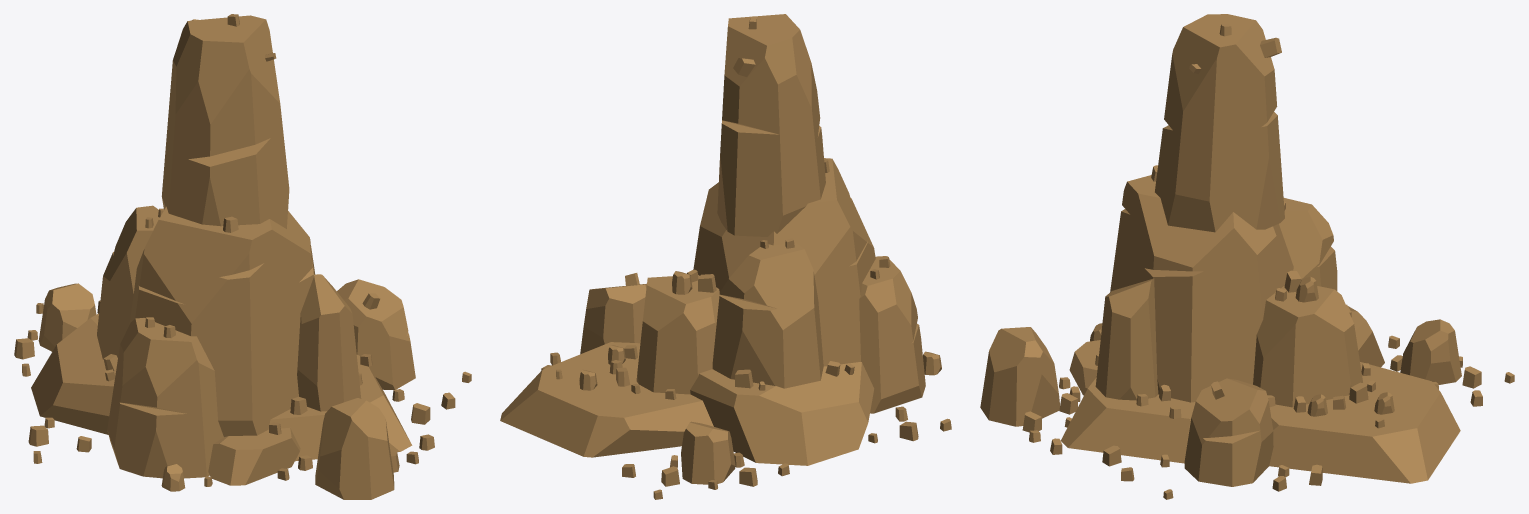
Rendered from roca05.fbx.
The picture shows the model from 3 angles, left to right: view 1: azimuth 30°, elevation 25°; view 2: azimuth 150°, elevation 25°; view 3: azimuth 270°, elevation 25°; orthographic projection. The views are drawn at different scales.
Parts seen in each view (by area): view 1: big_rock_05_Cylinder_200; view 2: big_rock_05_Cylinder_200; view 3: big_rock_05_Cylinder_200.
Boxes of the visible parts, x1,y1,x2,y2 form: big_rock_05_Cylinder_200: (14,14,471,499); big_rock_05_Cylinder_200: (500,14,951,499); big_rock_05_Cylinder_200: (980,14,1514,499).
Size of the model in its own units: 272 by 248 by 317.
